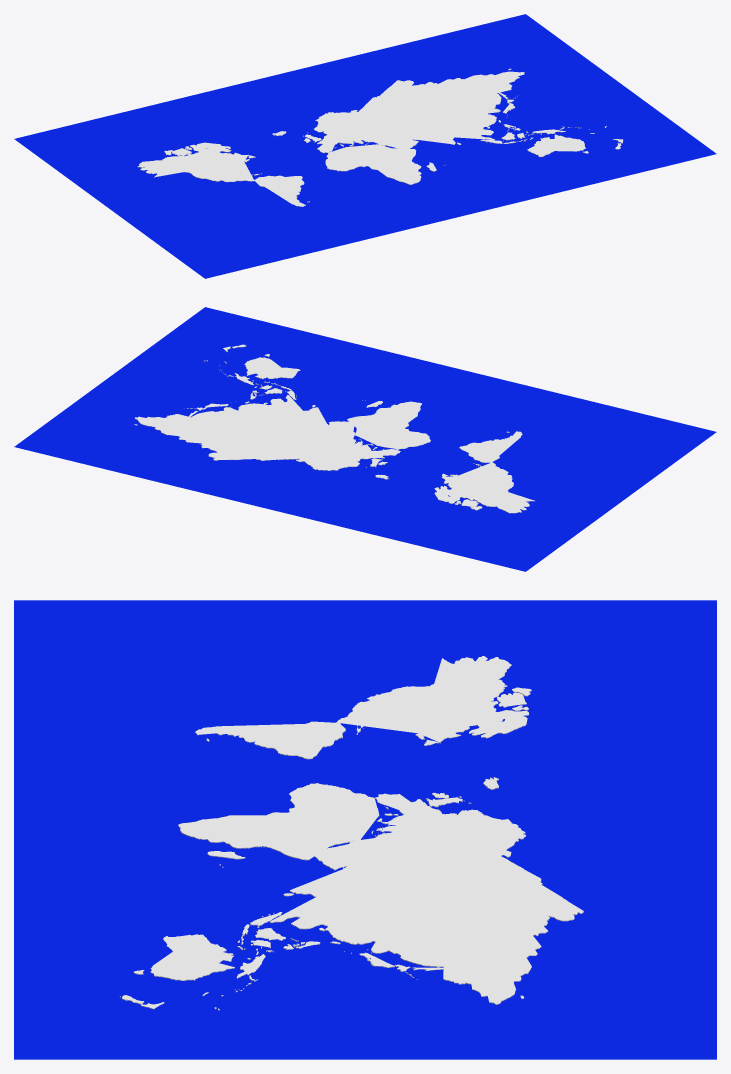
Rendered from WordMapModel.fbx.
The picture shows the model from 3 angles, top to bottom: view 1: azimuth 30°, elevation 25°; view 2: azimuth 150°, elevation 25°; view 3: azimuth 270°, elevation 25°; orthographic projection. The views are drawn at different scales.
Visible parts, largest first — view 1: Plane, Plane.001, Plane.035, Plane.107, Plane.034, Plane.086; view 2: Plane, Plane.001, Plane.035, Plane.107, Plane.034, Plane.086; view 3: Plane, Plane.001, Plane.035, Plane.107, Plane.034, Plane.086.
Boxes of the visible parts, x1,y1,x2,y2 form: Plane: [14, 14, 716, 278]; Plane.001: [313, 71, 524, 153]; Plane.035: [137, 144, 255, 182]; Plane.107: [325, 144, 421, 184]; Plane.034: [254, 175, 305, 206]; Plane.086: [527, 134, 585, 156]; Plane: [14, 307, 716, 571]; Plane.001: [135, 388, 400, 470]; Plane.035: [441, 462, 534, 513]; Plane.107: [347, 401, 430, 449]; Plane.034: [459, 431, 522, 462]; Plane.086: [244, 357, 300, 379]; Plane: [14, 600, 716, 1059]; Plane.001: [255, 793, 583, 1004]; Plane.035: [336, 656, 528, 745]; Plane.107: [178, 783, 379, 860]; Plane.034: [195, 721, 345, 759]; Plane.086: [150, 934, 234, 980].
Bounding box in the file's own units: 27024 × 45.3 × 17485.
